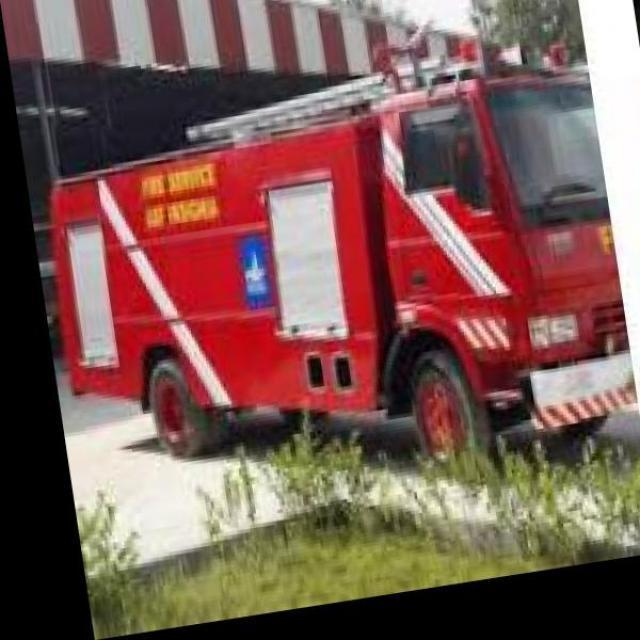emergency: (46, 21, 634, 466)
